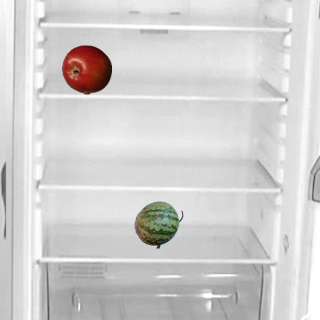Apple Braeburn: (61, 44, 111, 94)
Watermelon: (133, 199, 183, 249)
